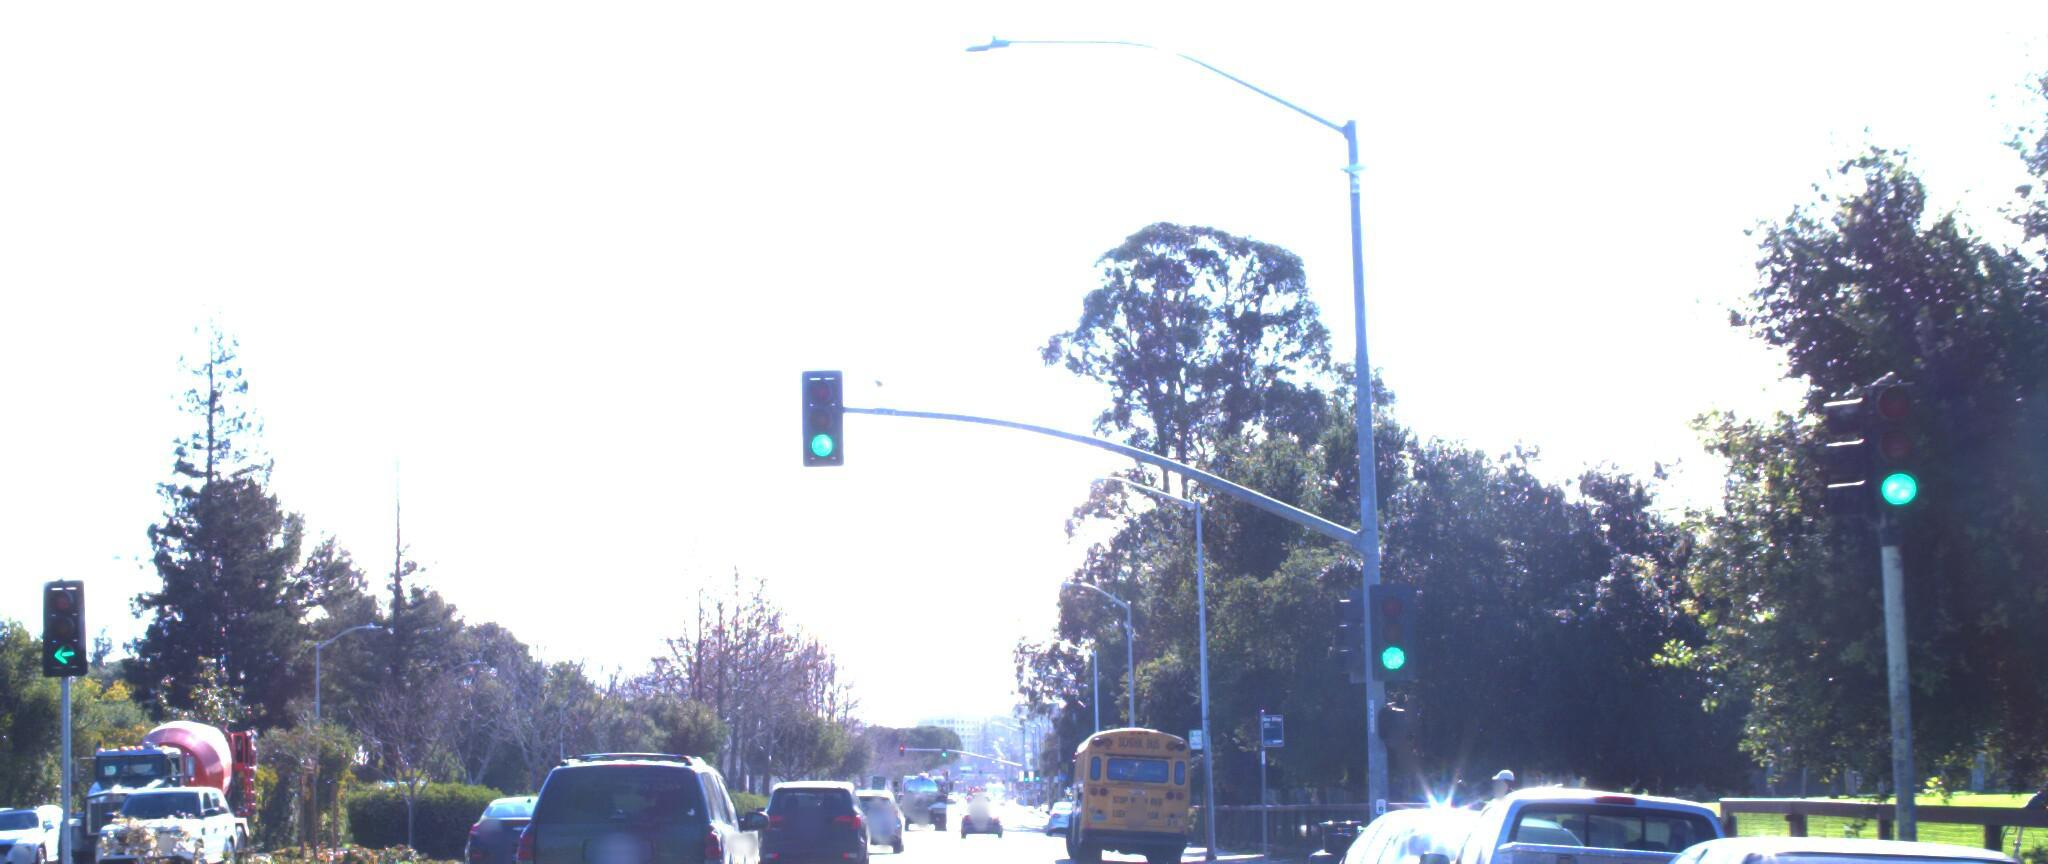bicycle: (1958, 705, 2048, 864)
bus: (1068, 718, 1208, 850)
car: (1394, 771, 1877, 864), (492, 743, 777, 864), (1539, 810, 2048, 864), (1294, 792, 1664, 864), (1991, 472, 2048, 864), (413, 777, 600, 864), (84, 769, 236, 859), (724, 787, 869, 864), (833, 780, 906, 842)
truck: (50, 694, 286, 864)
